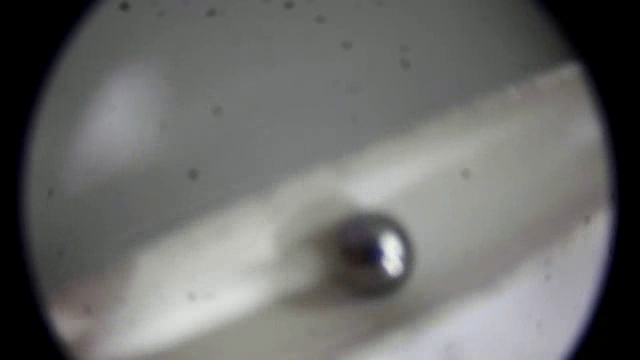gangzhu: (313, 211, 421, 296)
